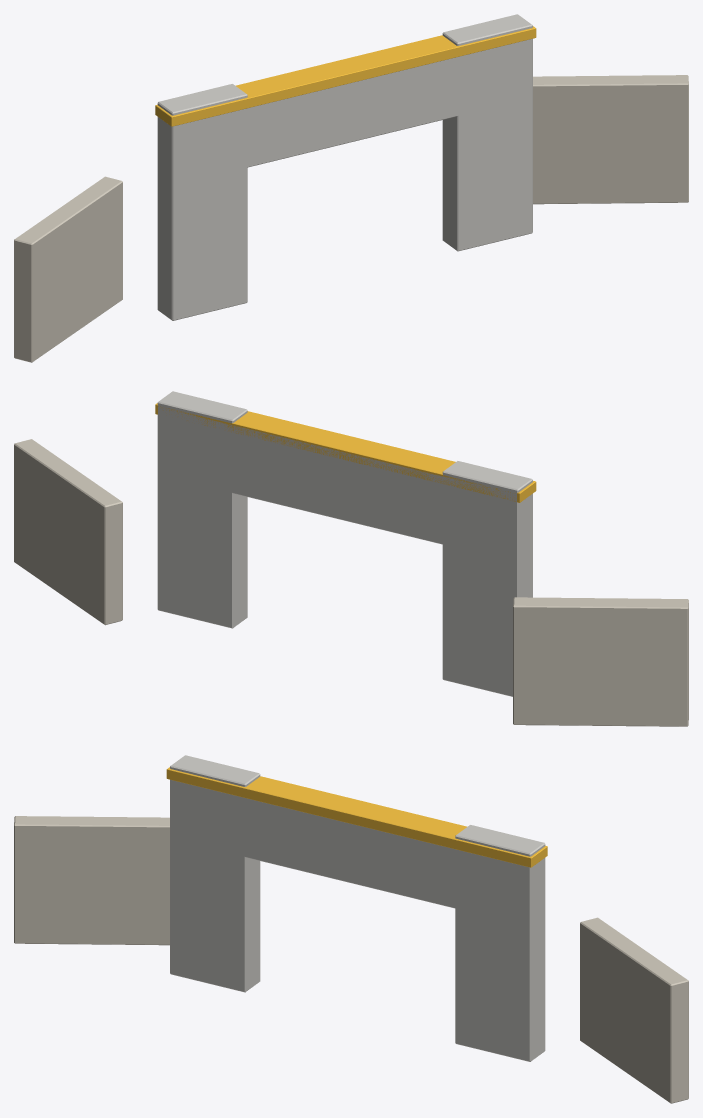
Rendered from tunnel_portal.glb.
The picture shows the model from 3 angles, top to bottom: view 1: azimuth 30°, elevation 25°; view 2: azimuth 150°, elevation 25°; view 3: azimuth 330°, elevation 25°; orthographic projection.
Visible parts, largest first — view 1: tunnel_portal; view 2: tunnel_portal; view 3: tunnel_portal.
Boxes of the visible parts, box(x1,y1,x2,y2) form: tunnel_portal: box(14, 14, 688, 362); tunnel_portal: box(14, 391, 688, 726); tunnel_portal: box(14, 755, 688, 1103).
Size of the model in its own units: 35.47 by 10.5 by 4.67.
